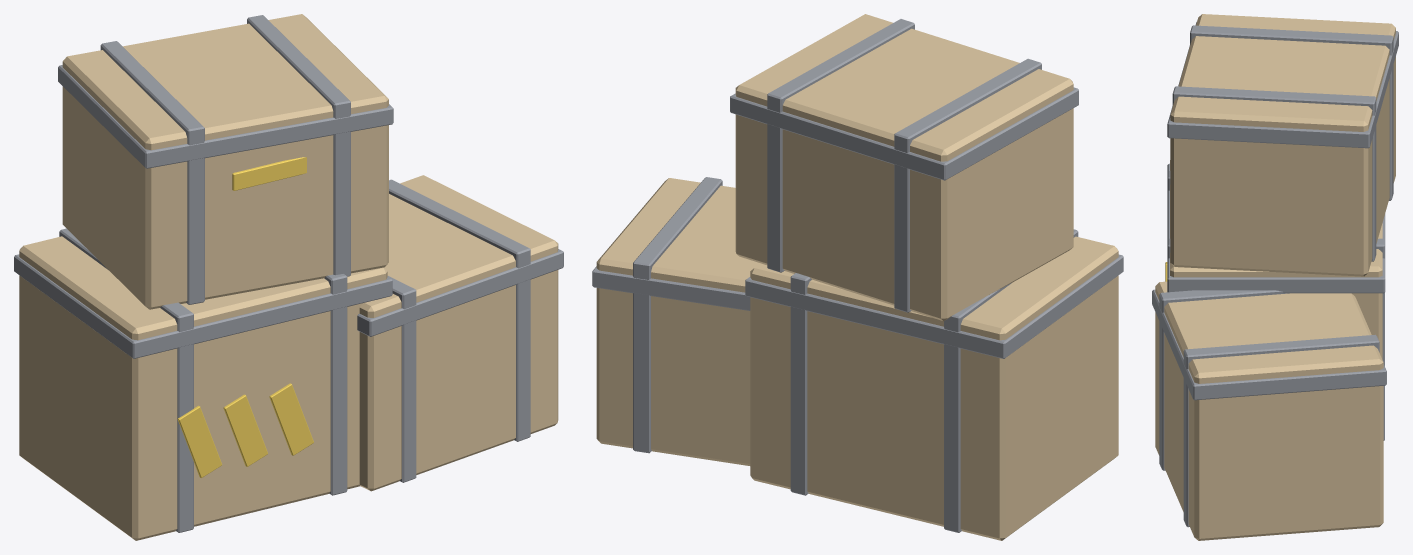
File: laser-tag-arena-and-activity-centre-crate-stack-barric-3fe98318__34486.glb
The picture shows the model from 3 angles, left to right: view 1: azimuth 30°, elevation 25°; view 2: azimuth 150°, elevation 25°; view 3: azimuth 270°, elevation 25°; orthographic projection. The views are drawn at different scales.
Visible parts, largest first — view 1: crate-stack-barricade; view 2: crate-stack-barricade; view 3: crate-stack-barricade.
Part boxes in pixels (left/top/right/bottom): crate-stack-barricade: left=14, top=14, right=563, bottom=540; crate-stack-barricade: left=592, top=14, right=1123, bottom=540; crate-stack-barricade: left=1152, top=14, right=1398, bottom=540.
Size of the model in its own units: 1.36 by 1.13 by 0.719.
